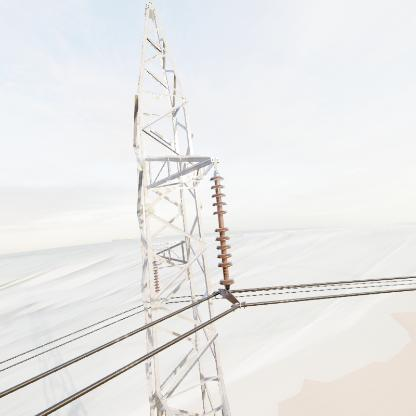insulator: (209, 173, 237, 288)
